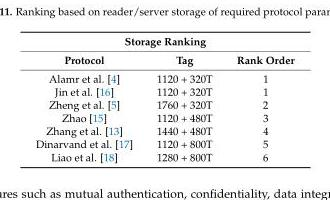table: (34, 34, 293, 163)
table column: (34, 34, 144, 163), (144, 34, 223, 163), (223, 34, 293, 163)
table column header: (34, 34, 293, 68)
table row: (34, 50, 293, 68), (34, 34, 293, 50), (34, 68, 293, 84), (34, 123, 293, 137), (34, 84, 293, 97), (34, 97, 293, 110), (34, 110, 293, 123), (34, 137, 293, 150), (34, 150, 293, 163)
table spanning cell: (34, 34, 293, 50)
